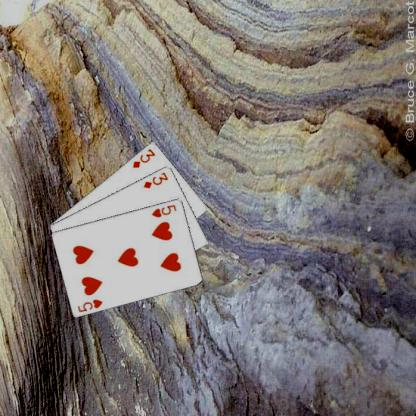3D: (130, 146, 157, 170), (141, 169, 169, 190)
5H: (75, 296, 104, 314), (149, 202, 178, 218)
